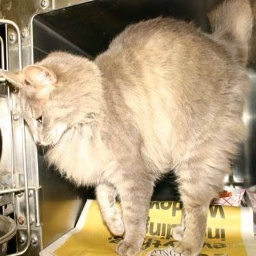cat: (6, 17, 244, 253)
